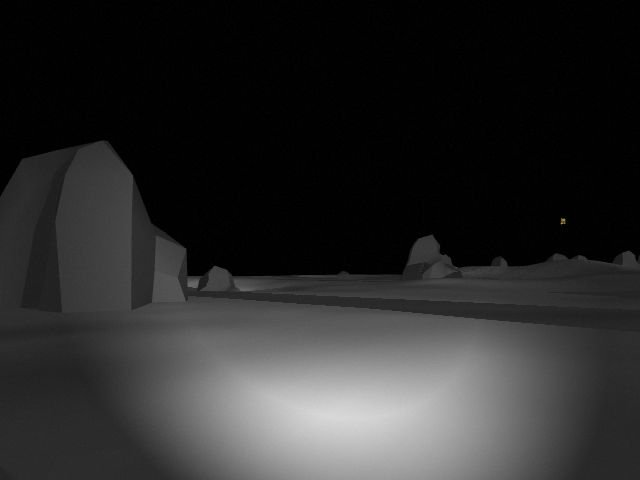cubesat: (558, 216, 568, 226)
